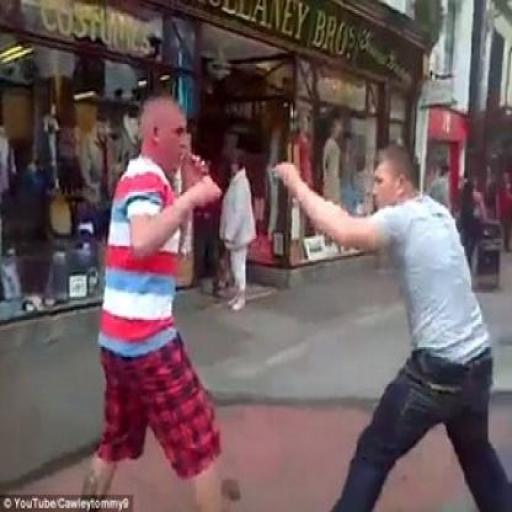Fighting: (82, 96, 512, 512)
